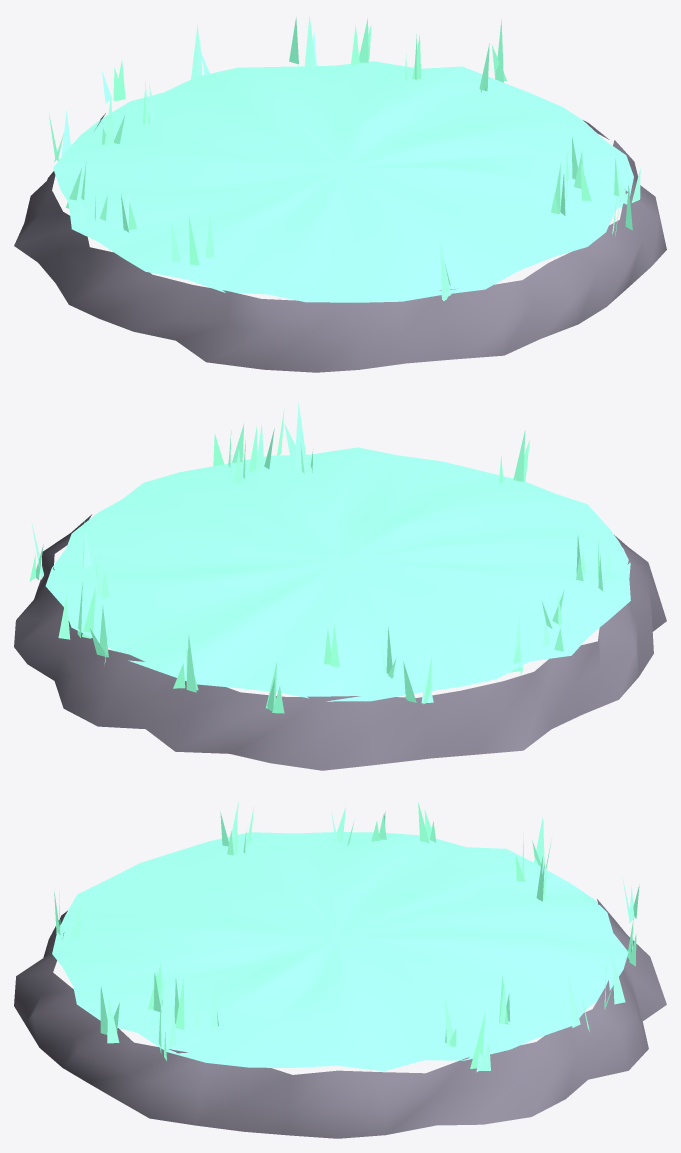
Rendered from inspect_pedestal.glb.
3 views of the same model, one above another, from view 1: azimuth 30°, elevation 25°; view 2: azimuth 150°, elevation 25°; view 3: azimuth 270°, elevation 25° (orthographic).
Parts seen in each view (by area): view 1: inspect_pedestal; view 2: inspect_pedestal; view 3: inspect_pedestal.
Part boxes in pixels (<box>): inspect_pedestal: <box>14,15,666,372</box>; inspect_pedestal: <box>14,402,666,770</box>; inspect_pedestal: <box>14,799,666,1138</box>.
Bounding box in the file's own units: 1.24 × 0.2376 × 1.28.
